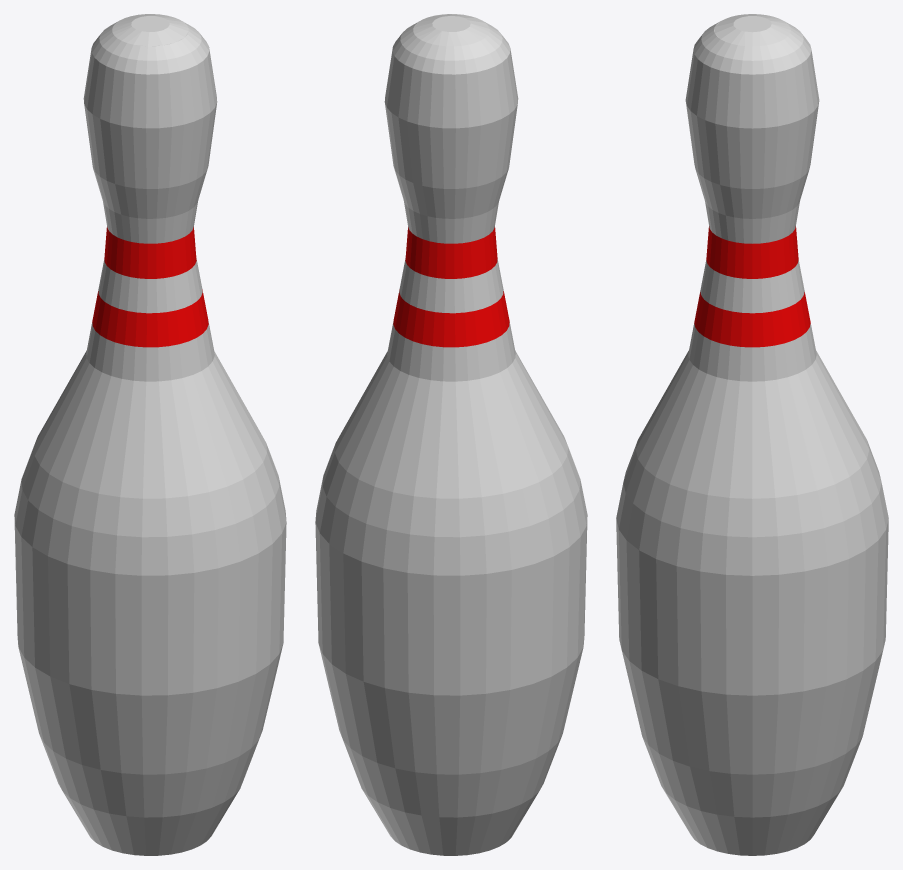
File: bowling_pin.fbx
3 renders of one model, left to right at view 1: azimuth 30°, elevation 25°; view 2: azimuth 150°, elevation 25°; view 3: azimuth 270°, elevation 25°, orthographic.
Visible parts, largest first — view 1: pin_white, pin_red; view 2: pin_white, pin_red; view 3: pin_white, pin_red.
Boxes of the visible parts, x1,y1,x2,y2 form: pin_white: [14, 14, 286, 855]; pin_red: [92, 227, 208, 347]; pin_white: [315, 14, 587, 855]; pin_red: [393, 227, 509, 347]; pin_white: [616, 14, 888, 855]; pin_red: [694, 226, 810, 347].
Bounding box in the file's own units: 0.4868 × 1.59 × 0.4868.
